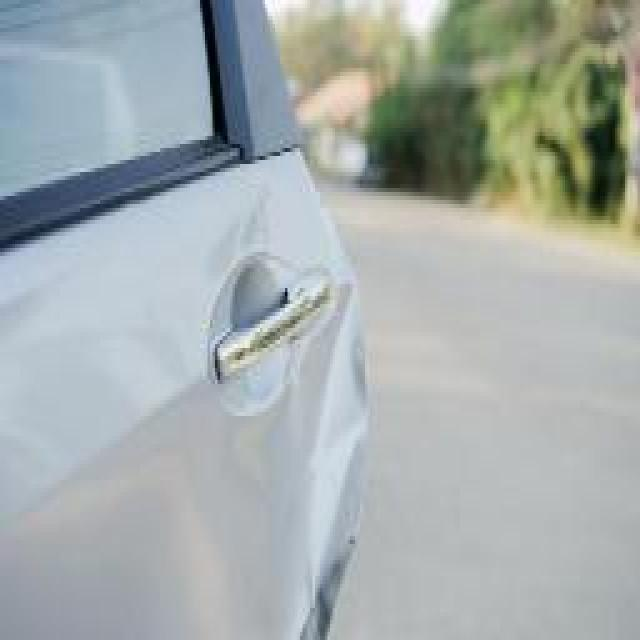Door: (238, 180, 375, 640)
